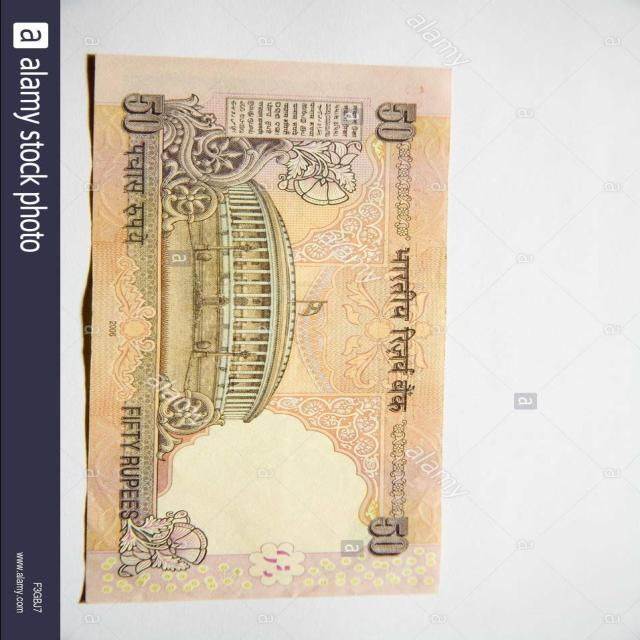50IndianRupees: (96, 70, 443, 596)
